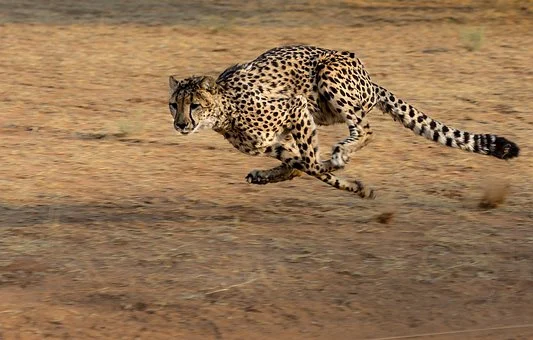cheetah: (158, 69, 226, 138)
